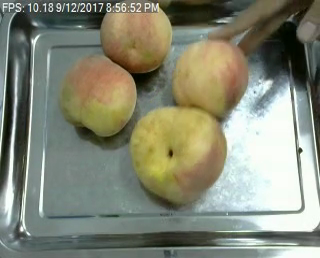Peach: (128, 104, 228, 203), (60, 54, 138, 136), (170, 37, 246, 117), (98, 0, 171, 73)
